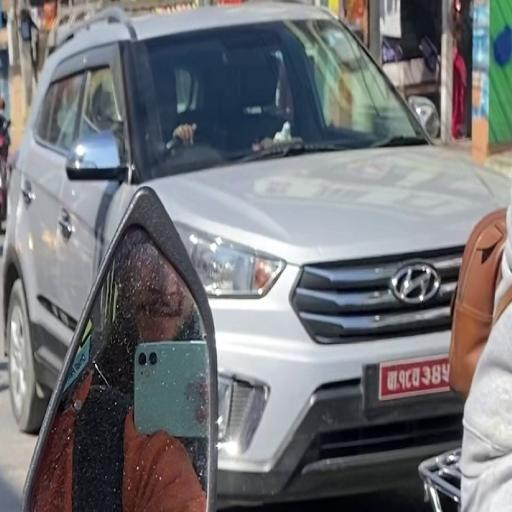license_plate: (377, 351, 453, 403)
